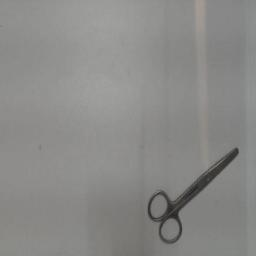Dressing Scissors: (140, 140, 246, 250)
